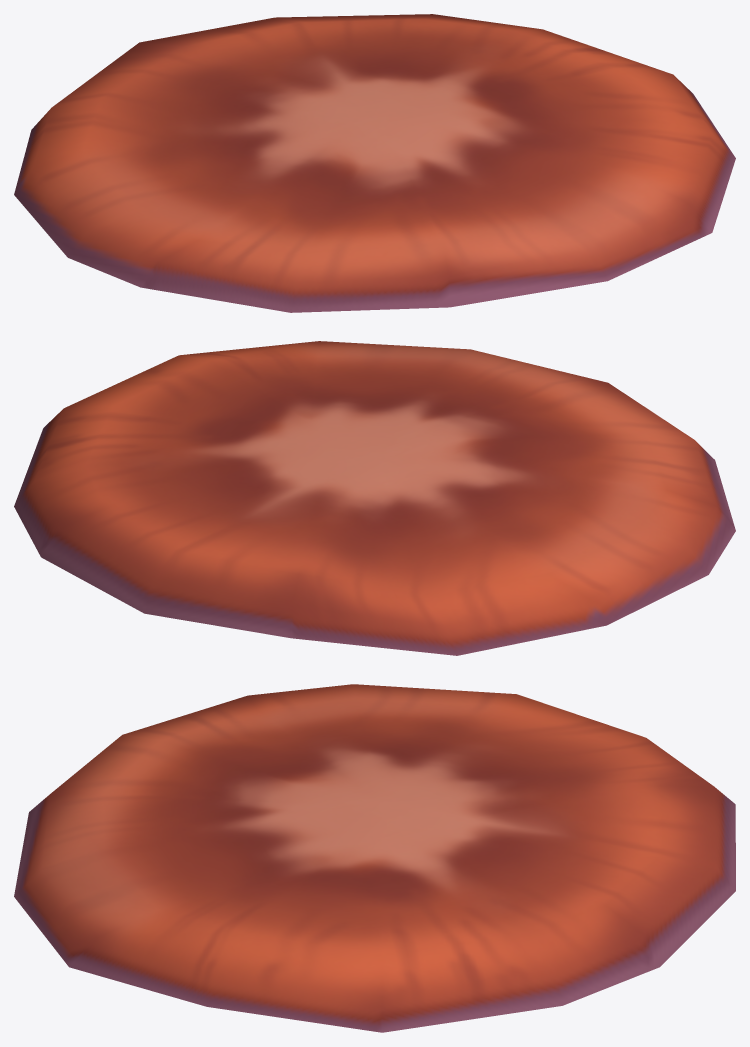
The model's file is MD_mushroom_table.fbx.
3 views of the same model, one above another, from view 1: azimuth 30°, elevation 25°; view 2: azimuth 150°, elevation 25°; view 3: azimuth 270°, elevation 25° (orthographic). The views are drawn at different scales.
Parts seen in each view (by area): view 1: mushroom_table1; view 2: mushroom_table1; view 3: mushroom_table1.
Part boxes in pixels (x1,y1,x2,y2): mushroom_table1: [14, 14, 735, 312]; mushroom_table1: [14, 341, 735, 655]; mushroom_table1: [14, 684, 735, 1032].
Size of the model in its own units: 211 by 46.5 by 193.
Materials: 1 (1 with a texture image).
